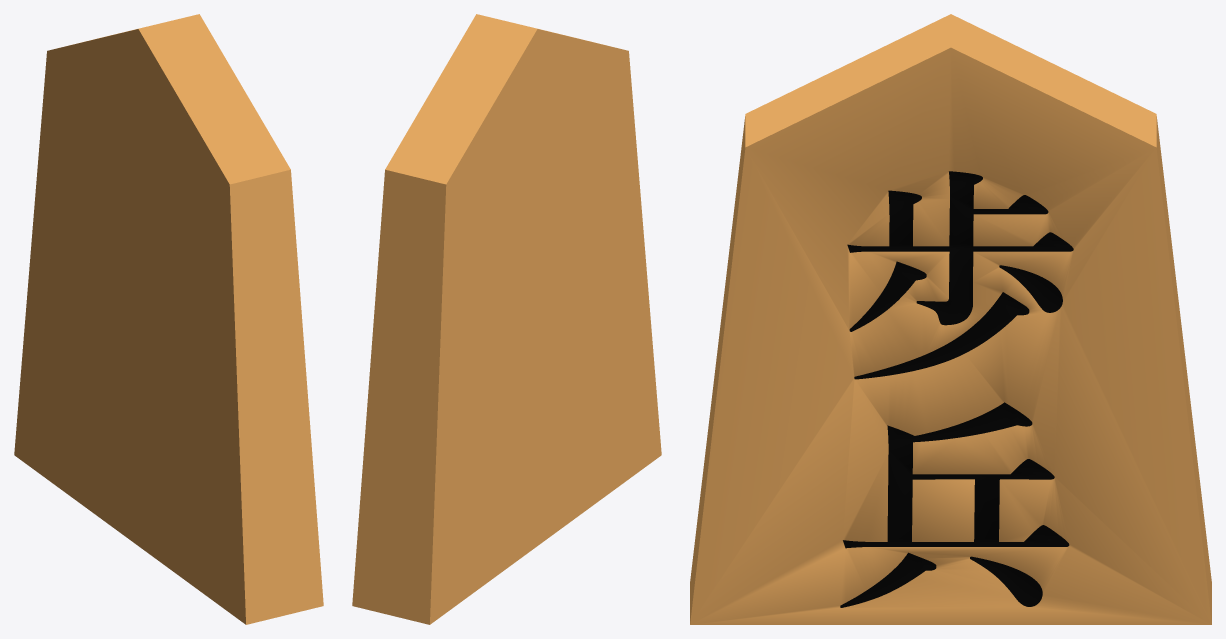
Rendered from JapaneseChessPawn.fbx.
The picture shows the model from 3 angles, left to right: view 1: azimuth 30°, elevation 25°; view 2: azimuth 150°, elevation 25°; view 3: azimuth 270°, elevation 25°; orthographic projection. The views are drawn at different scales.
Visible parts, largest first — view 1: Cube; view 2: Cube; view 3: Cube.
Boxes of the visible parts, box(x1,y1,x2,y2) form: Cube: box(14, 14, 323, 624); Cube: box(352, 14, 661, 624); Cube: box(690, 14, 1211, 624).
Bounding box in the file's own units: 38.67 × 242 × 200.
2 materials, 2 textured.
